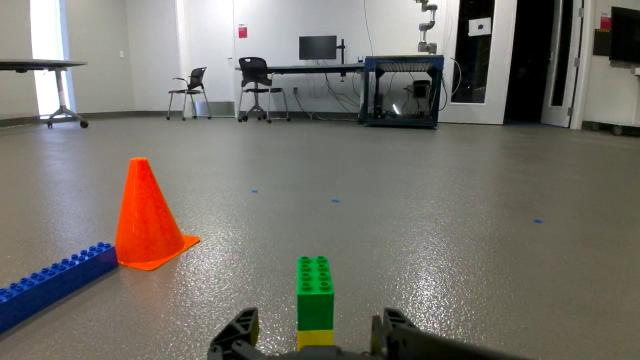lego: (292, 244, 341, 360)
